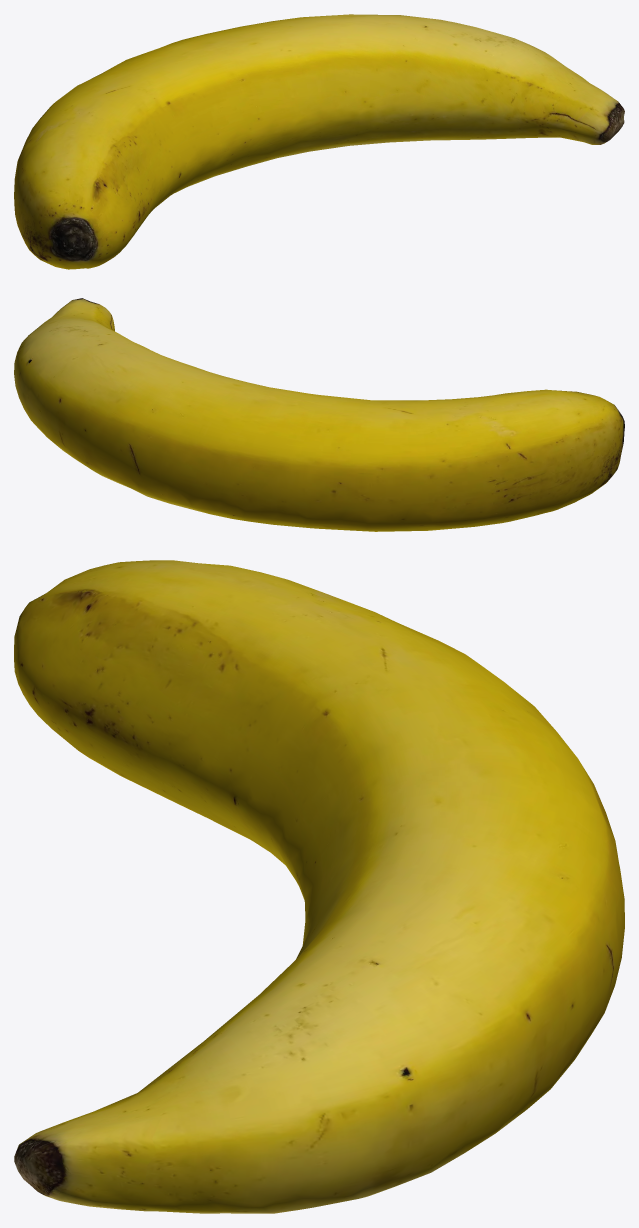
File: banana.glb
3 renders of one model, top to bottom at view 1: azimuth 30°, elevation 25°; view 2: azimuth 150°, elevation 25°; view 3: azimuth 270°, elevation 25°, orthographic. The views are drawn at different scales.
Visible parts, largest first — view 1: SM_Food_Bannana; view 2: SM_Food_Bannana; view 3: SM_Food_Bannana.
Part boxes in pixels (x1,y1,x2,y2): SM_Food_Bannana: [14, 14, 624, 269]; SM_Food_Bannana: [14, 298, 624, 531]; SM_Food_Bannana: [14, 560, 624, 1213].
Bounding box in the file's own units: 0.1341 × 0.0262 × 0.0648.
1 material, 1 textured.
